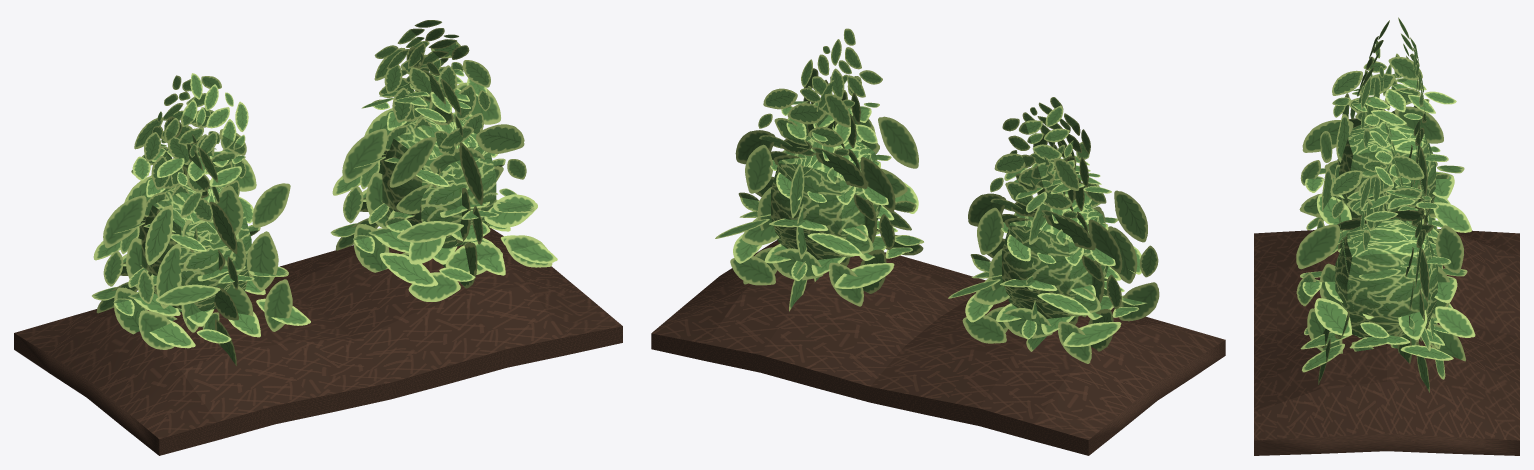
Rendered from bush.fbx.
The picture shows the model from 3 angles, left to right: view 1: azimuth 30°, elevation 25°; view 2: azimuth 150°, elevation 25°; view 3: azimuth 270°, elevation 25°; orthographic projection. The views are drawn at different scales.
Parts seen in each view (by area): view 1: Cube.004, leaves.018, leaves.006, Cube.002, Cube.003, leaves.002, leaves.008, leaves, leaves.014, leaves.023, leaves.011, leaves.003 (+15 smaller); view 2: Cube.004, leaves.005, Cube.002, Cube.003, leaves.017, leaves, leaves.018, leaves.009, leaves.011, leaves.002, leaves.021, leaves.014 (+16 smaller); view 3: Cube.004, Cube.002, leaves.001, leaves.003, Cube.003, leaves.010, leaves.013, leaves.015, leaves.002, leaves.022, leaves.019, leaves.007 (+16 smaller).
Boxes of the visible parts, left/top/right/bottom form: Cube.004: left=14, top=227, right=622, bottom=455; leaves.018: left=137, top=183, right=292, bottom=349; leaves.006: left=385, top=124, right=552, bottom=301; Cube.002: left=378, top=116, right=496, bottom=248; Cube.003: left=138, top=183, right=251, bottom=311; leaves.002: left=330, top=199, right=557, bottom=286; leaves.008: left=384, top=59, right=490, bottom=150; leaves: left=342, top=128, right=408, bottom=272; leaves.014: left=92, top=276, right=310, bottom=348; leaves.023: left=164, top=73, right=248, bottom=167; leaves.011: left=103, top=195, right=177, bottom=334; leaves.003: left=332, top=176, right=534, bottom=242; Cube.004: left=651, top=240, right=1225, bottom=455; leaves.005: left=730, top=130, right=875, bottom=306; Cube.002: left=771, top=135, right=880, bottom=259; Cube.003: left=1002, top=198, right=1108, bottom=318; leaves.017: left=962, top=193, right=1102, bottom=363; leaves: left=743, top=144, right=895, bottom=293; leaves.018: left=1068, top=182, right=1159, bottom=321; leaves.009: left=758, top=88, right=850, bottom=159; leaves.011: left=977, top=207, right=1122, bottom=351; leaves.002: left=733, top=231, right=923, bottom=288; leaves.021: left=990, top=153, right=1079, bottom=222; leaves.014: left=965, top=294, right=1146, bottom=346; Cube.004: left=1254, top=229, right=1519, bottom=455; Cube.002: left=1335, top=219, right=1437, bottom=339; leaves.001: left=1296, top=224, right=1465, bottom=361; leaves.003: left=1300, top=268, right=1475, bottom=339; Cube.003: left=1337, top=121, right=1435, bottom=219; leaves.010: left=1330, top=155, right=1433, bottom=249; leaves.013: left=1299, top=106, right=1449, bottom=243; leaves.015: left=1305, top=165, right=1471, bottom=232; leaves.002: left=1300, top=303, right=1453, bottom=372; leaves.022: left=1332, top=56, right=1429, bottom=127; leaves.019: left=1332, top=74, right=1456, bottom=125; leaves.007: left=1338, top=177, right=1438, bottom=221.
Bounding box in the file's own units: 210 × 138 × 114.
